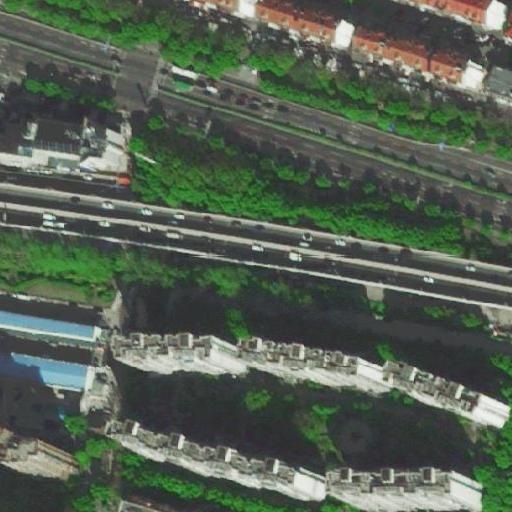building: (114, 417, 312, 493), (383, 365, 510, 424), (246, 340, 373, 388), (110, 337, 245, 373), (354, 477, 483, 511), (261, 2, 358, 47), (0, 304, 105, 341), (0, 435, 78, 484), (0, 344, 88, 387), (18, 114, 88, 155), (409, 0, 504, 30), (418, 43, 481, 86), (483, 64, 512, 102), (126, 501, 159, 510)
